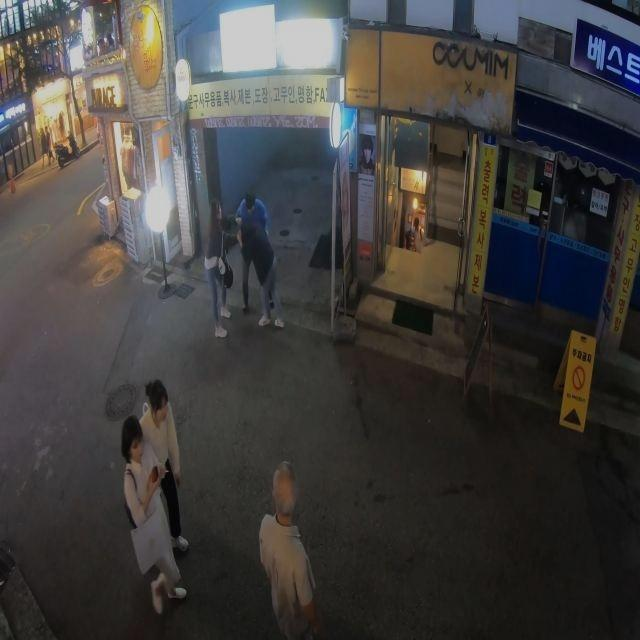fight: (201, 193, 281, 339)
non-fight: (119, 414, 182, 614), (255, 462, 322, 639), (132, 377, 193, 552)
